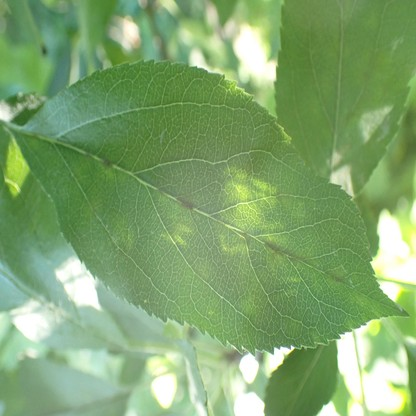scab: (264, 239, 309, 273), (326, 268, 346, 285), (177, 196, 195, 213), (102, 157, 114, 171), (84, 149, 93, 159), (157, 188, 165, 198)
